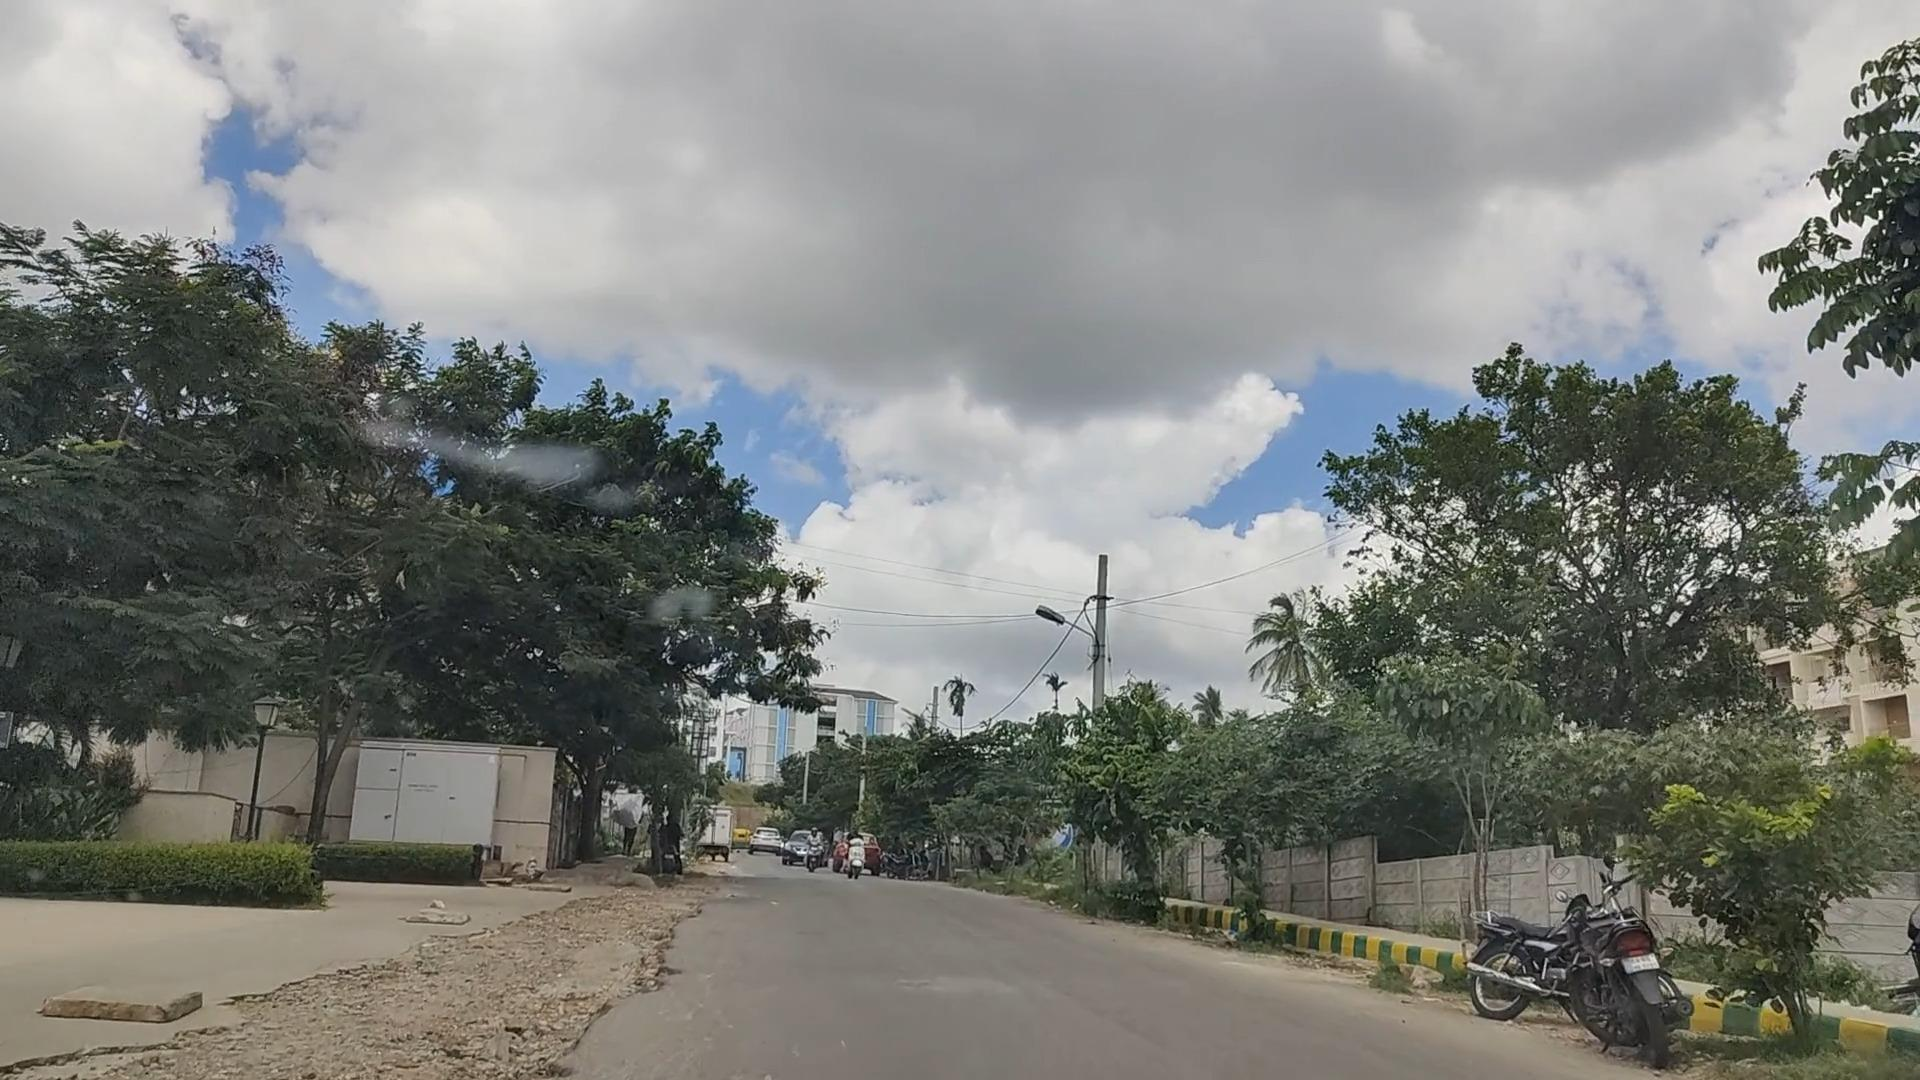RoadDamages: (18, 916, 678, 1080)
